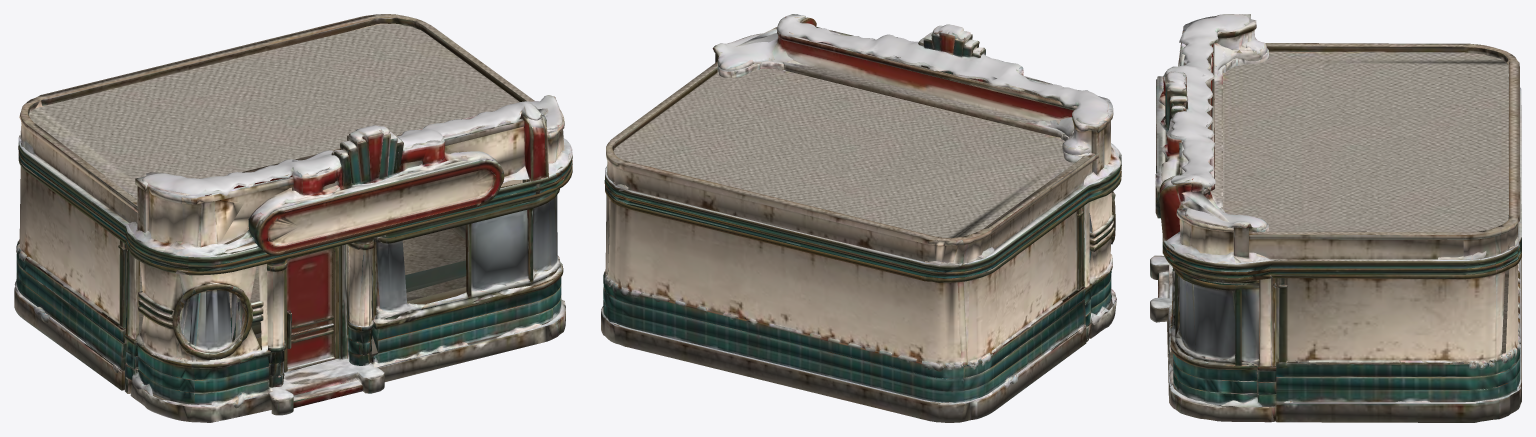
Rendered from town_shop_c.glb.
3 views of the same model, side by side, from view 1: azimuth 30°, elevation 25°; view 2: azimuth 150°, elevation 25°; view 3: azimuth 270°, elevation 25° (orthographic). The views are drawn at different scales.
Bounding box in the file's own units: 0.9517 × 0.5411 × 0.7442.
1 material, 1 textured.
